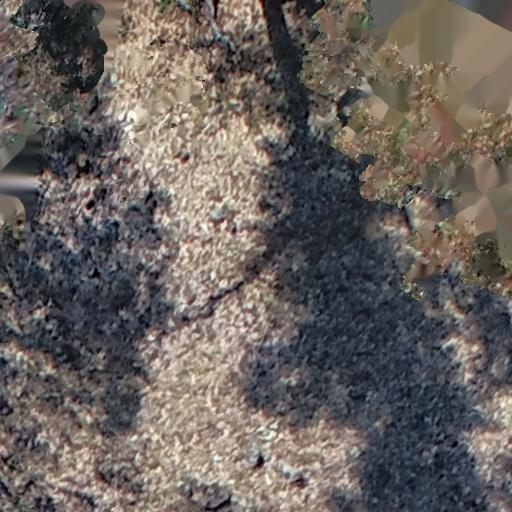stone: (191, 475, 232, 512), (228, 443, 268, 470), (276, 462, 313, 488)
